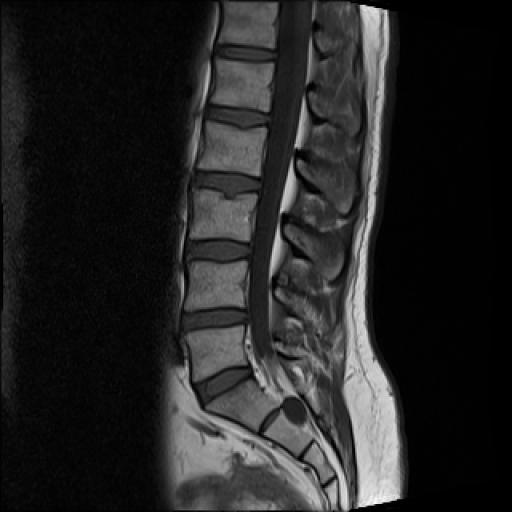L1: (210, 58, 274, 112)
L2: (197, 121, 266, 176)
L3: (190, 190, 256, 242)
L4: (185, 261, 248, 310)
L5: (186, 325, 248, 380)
S1: (206, 378, 276, 430)
